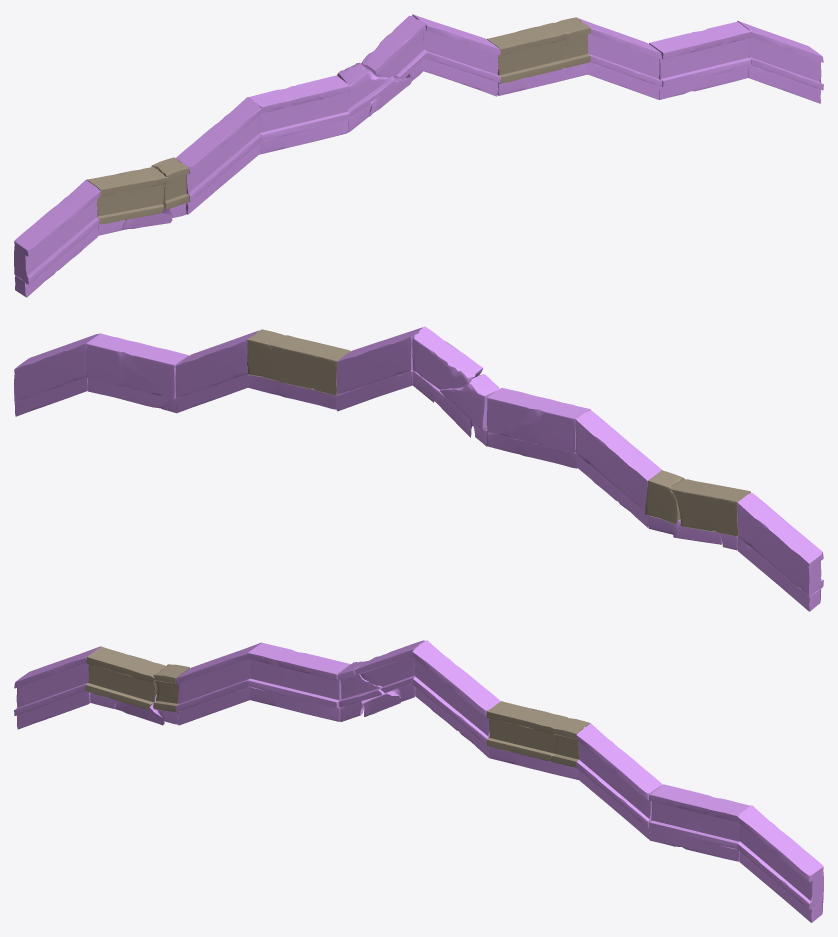
File: Bridge_small_05_side_01.fbx
3 renders of one model, top to bottom at view 1: azimuth 30°, elevation 25°; view 2: azimuth 150°, elevation 25°; view 3: azimuth 330°, elevation 25°, orthographic.
Visible parts, largest first — view 1: Bridge_small_05_side_01_LOD0; view 2: Bridge_small_05_side_01_LOD0; view 3: Bridge_small_05_side_01_LOD0.
Part boxes in pixels (<box>): Bridge_small_05_side_01_LOD0: <box>14,14,823,297</box>; Bridge_small_05_side_01_LOD0: <box>14,326,823,611</box>; Bridge_small_05_side_01_LOD0: <box>14,640,823,922</box>.
Size of what is drawn, in the model's own units: 1623 by 348 by 70.69.
